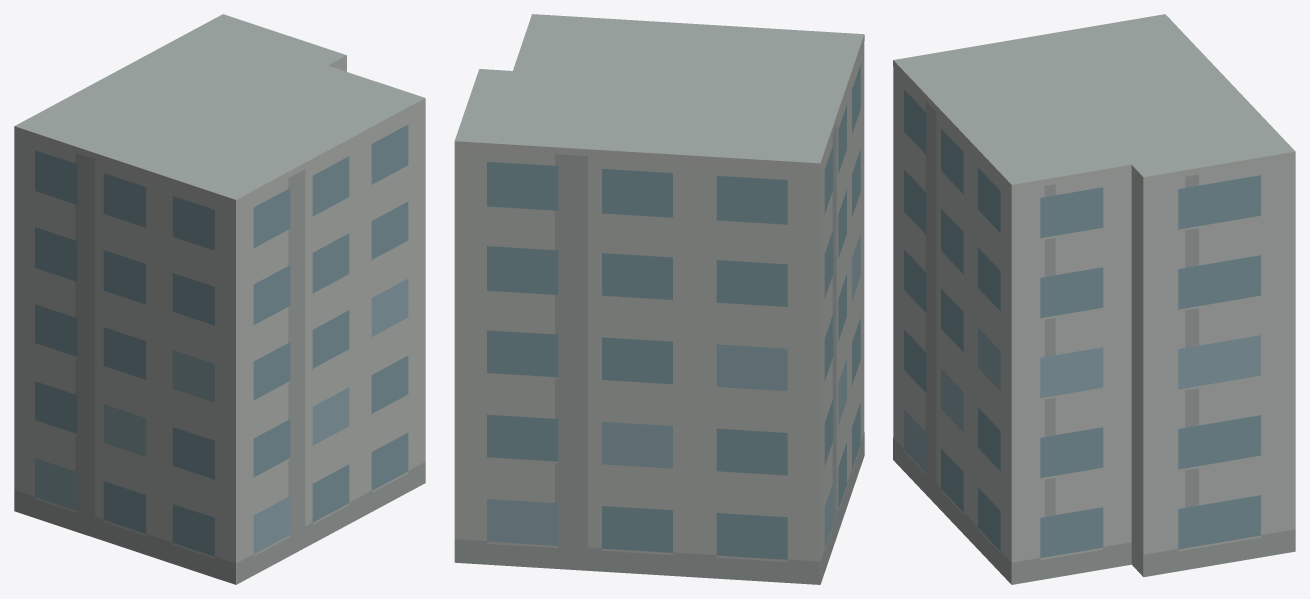
The model's file is residential-5c2c192a-791f-4ef3-90e6-d2a4722573bc.glb.
3 renders of one model, left to right at view 1: azimuth 30°, elevation 25°; view 2: azimuth 150°, elevation 25°; view 3: azimuth 270°, elevation 25°, orthographic. The views are drawn at different scales.
Visible parts, largest first — view 1: residential-5c2c192a-791f-4ef3-90e6-d2a4722573bc.tmp; view 2: residential-5c2c192a-791f-4ef3-90e6-d2a4722573bc.tmp; view 3: residential-5c2c192a-791f-4ef3-90e6-d2a4722573bc.tmp.
Boxes of the visible parts, x1,y1,x2,y2 form: residential-5c2c192a-791f-4ef3-90e6-d2a4722573bc.tmp: (14, 14, 425, 584); residential-5c2c192a-791f-4ef3-90e6-d2a4722573bc.tmp: (454, 14, 864, 584); residential-5c2c192a-791f-4ef3-90e6-d2a4722573bc.tmp: (893, 14, 1295, 584).
Bounding box in the file's own units: 13.76 × 15 × 13.69.
